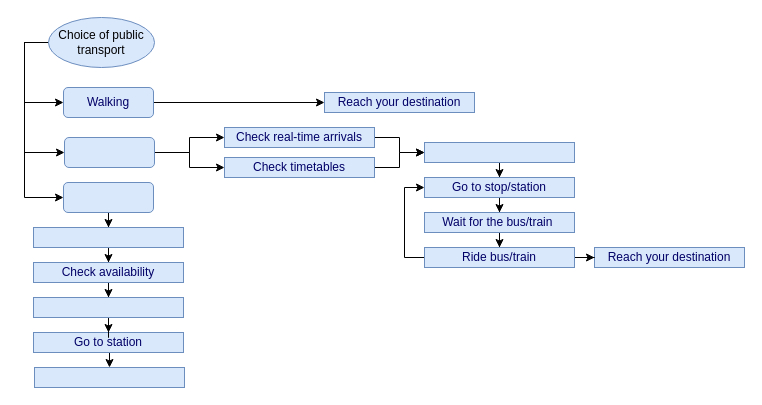
Image size: 762x405. Some labels were removed from this diagram. Each missing label, with the centre of its shape:
"Buses and trains" goes at point (109, 152).
"Buy ticket" goes at point (499, 152).
"Locate nearest station" goes at point (108, 237).
"Return shared bike/car" goes at point (109, 377).
"Shared bike/car" goes at point (108, 197).
"Use shared bike/car" goes at point (108, 307).
